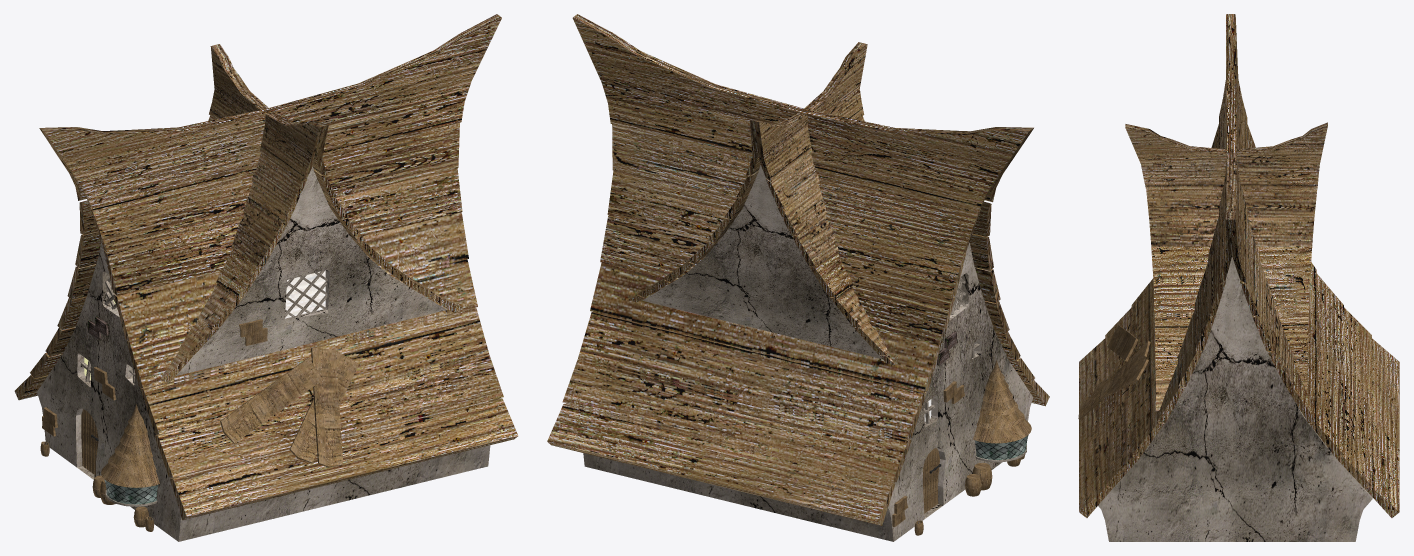
Rendered from house.FBX.
The picture shows the model from 3 angles, left to right: view 1: azimuth 30°, elevation 25°; view 2: azimuth 150°, elevation 25°; view 3: azimuth 270°, elevation 25°; orthographic projection. The views are drawn at different scales.
Parts seen in each view (by area): view 1: Box03, Box02, Box05, Box04, Box119, Box117, Box118, Box28, Cylinder02, Cone06, Cone05; view 2: Box03, Box02, Box05, Box04, Cylinder02, Cone06, Box28, Cone05; view 3: Box03, Box02, Box04, Box117, Box119, Box118.
Boxes of the visible parts, box(x1,y1,x2,y2) form: Box03: box(14, 14, 518, 520); Box02: box(37, 242, 490, 541); Box05: box(175, 167, 446, 376); Box04: box(160, 44, 461, 382); Box119: box(220, 357, 322, 443); Box117: box(311, 348, 343, 467); Box118: box(289, 351, 358, 462); Box28: box(81, 409, 98, 475); Cylinder02: box(104, 479, 158, 504); Cone06: box(101, 463, 159, 487); Cone05: box(108, 453, 156, 473); Box03: box(547, 14, 1049, 525); Box02: box(583, 242, 1033, 541); Box05: box(642, 165, 883, 359); Box04: box(628, 42, 895, 365); Cylinder02: box(974, 435, 1028, 460); Cone06: box(973, 418, 1031, 443); Box28: box(923, 448, 939, 513); Cone05: box(976, 408, 1024, 429); Box03: box(1079, 14, 1399, 517); Box02: box(1098, 252, 1372, 541); Box04: box(1125, 122, 1327, 411); Box117: box(1078, 341, 1150, 420); Box119: box(1107, 325, 1137, 361); Box118: box(1092, 359, 1148, 397).
Size of the model in its own units: 3288 by 2637 by 2148.
